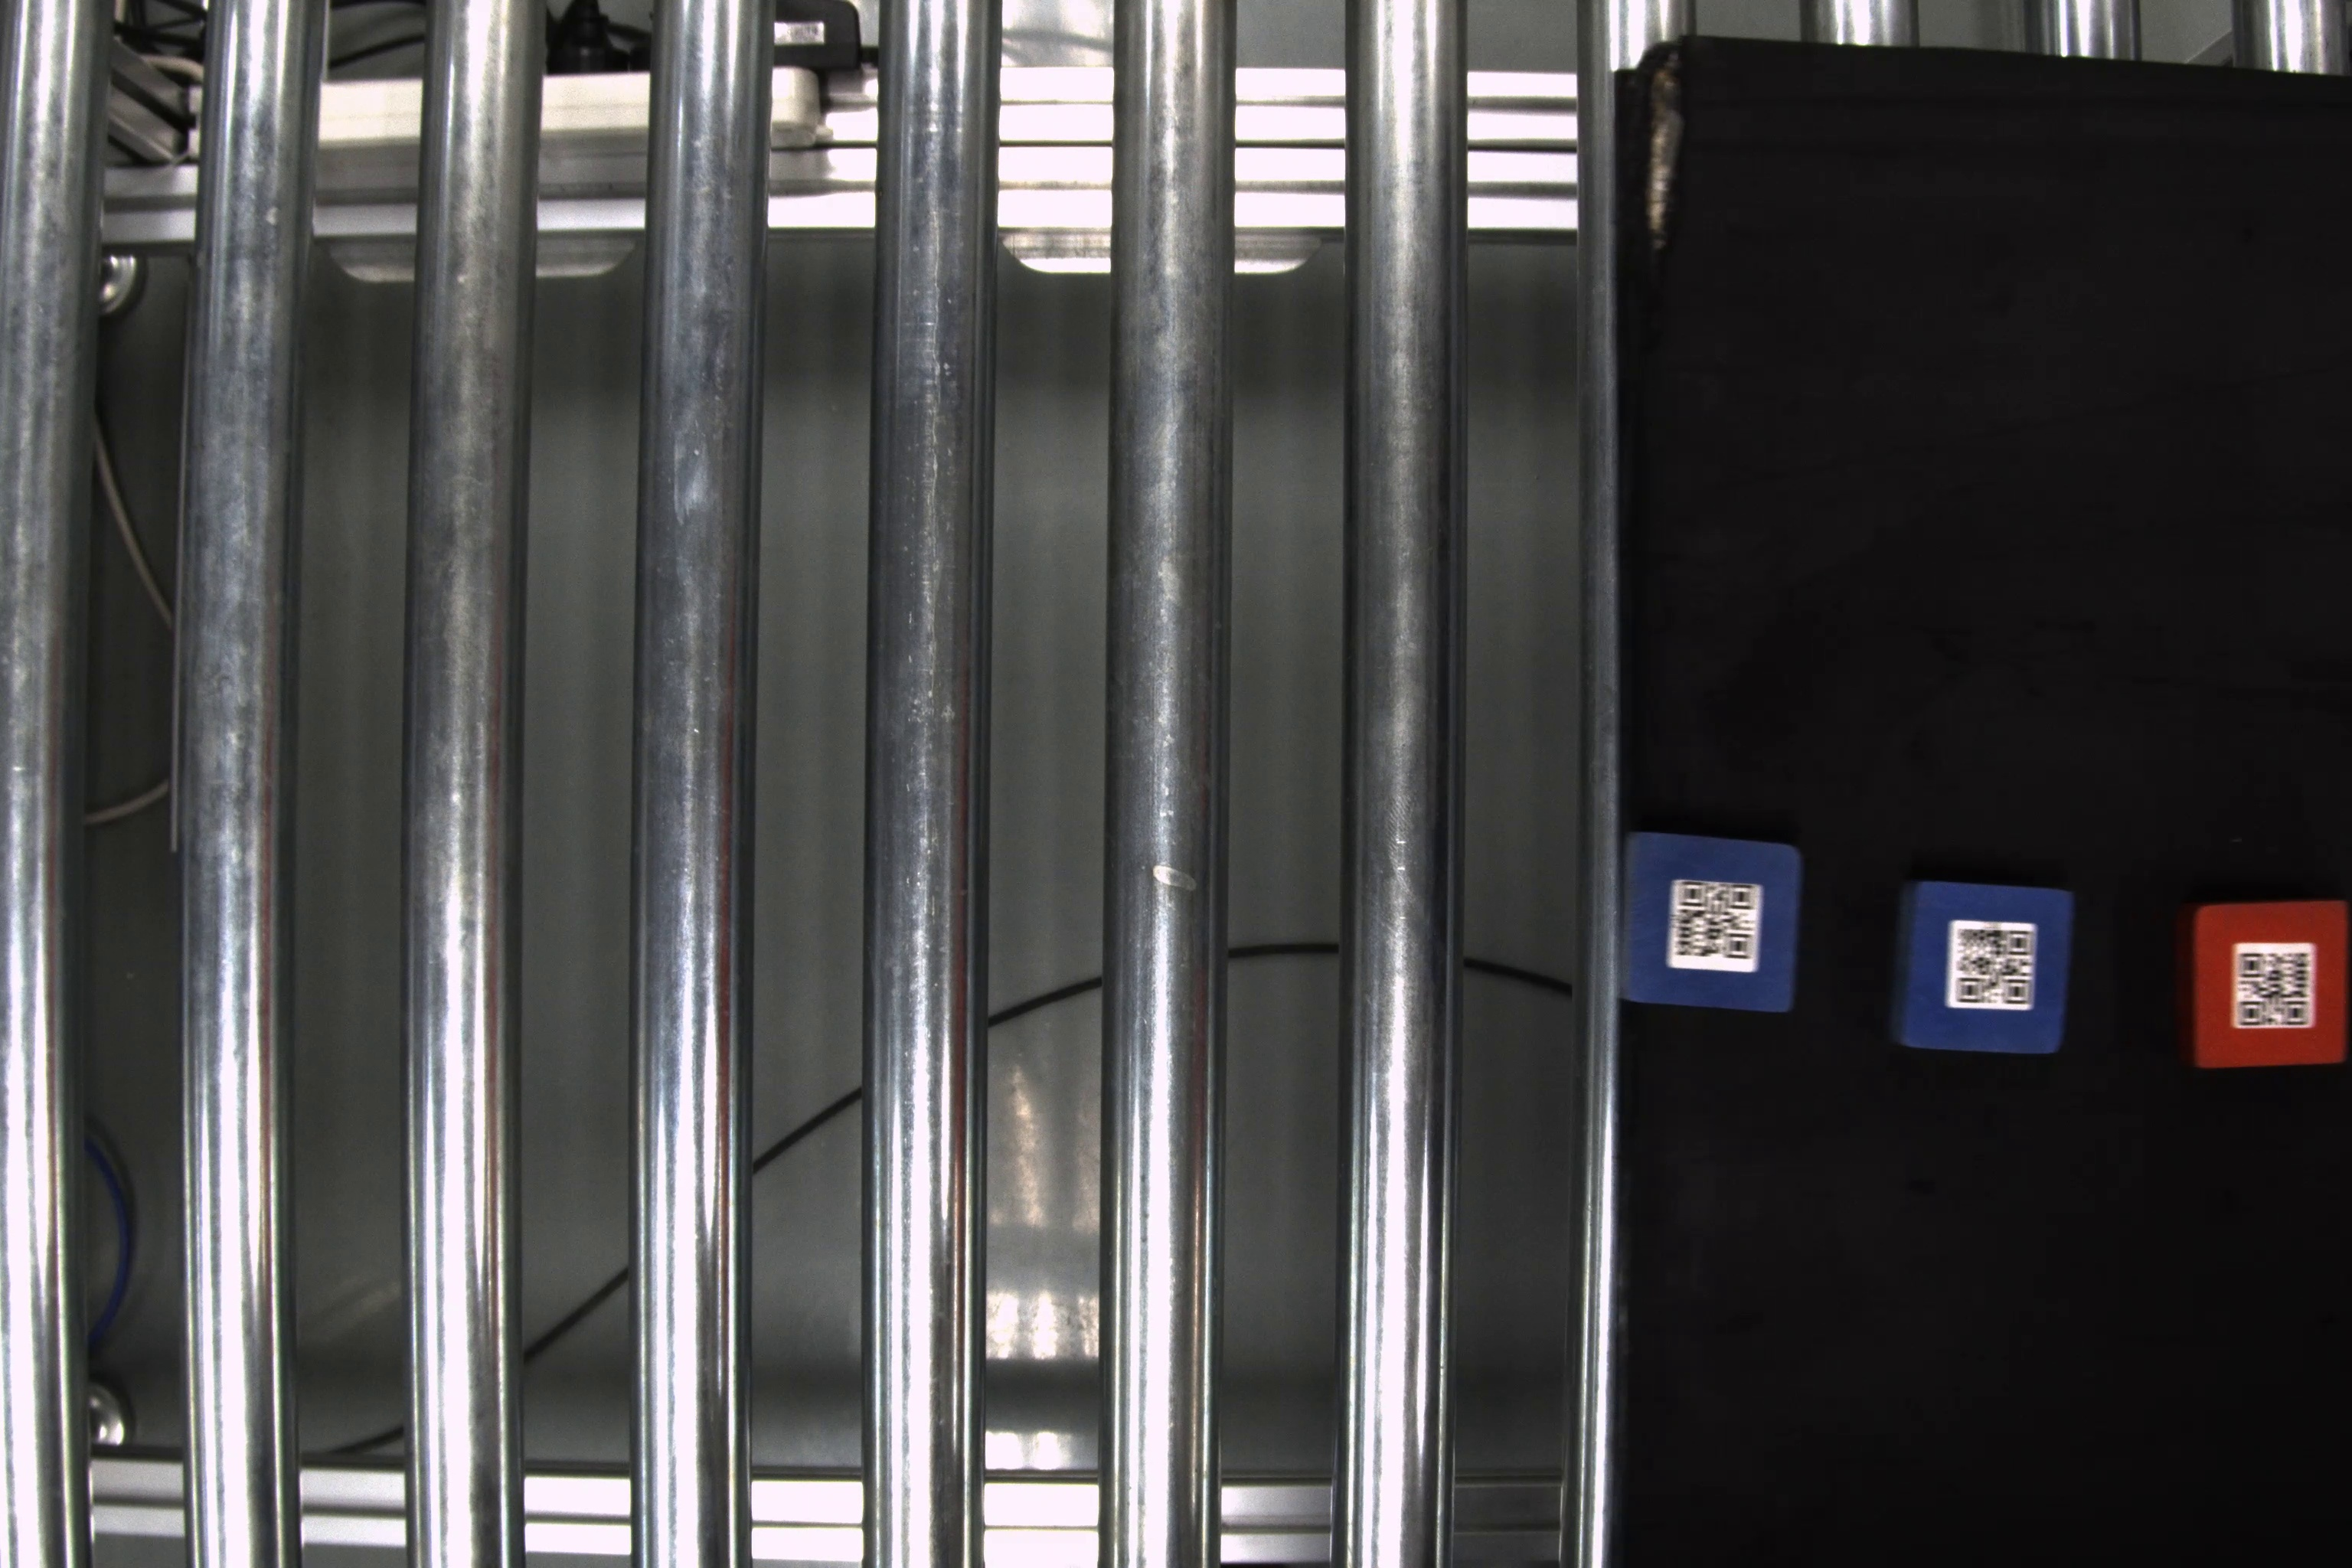wood: (1612, 826, 1809, 1018), (1892, 871, 2082, 1059), (2180, 898, 2347, 1074)
